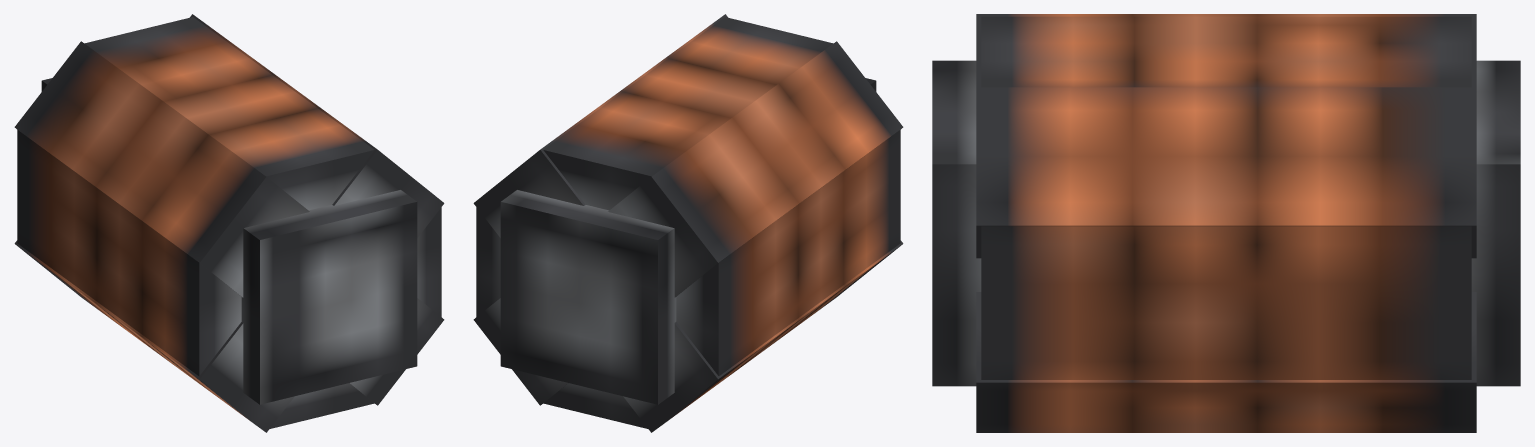
Rendered from chemical_extractor_drum.obj.
3 views of the same model, side by side, from view 1: azimuth 30°, elevation 25°; view 2: azimuth 150°, elevation 25°; view 3: azimuth 270°, elevation 25° (orthographic). The views are drawn at different scales.
Parts seen in each view (by area): view 1: cube; view 2: cube; view 3: cube.
Part boxes in pixels (x1=…): cube: x1=14, y1=14, x2=444, y2=432; cube: x1=473, y1=14, x2=903, y2=432; cube: x1=932, y1=14, x2=1520, y2=432.
Bounding box in the file's own units: 7.78 × 7.78 × 12.
